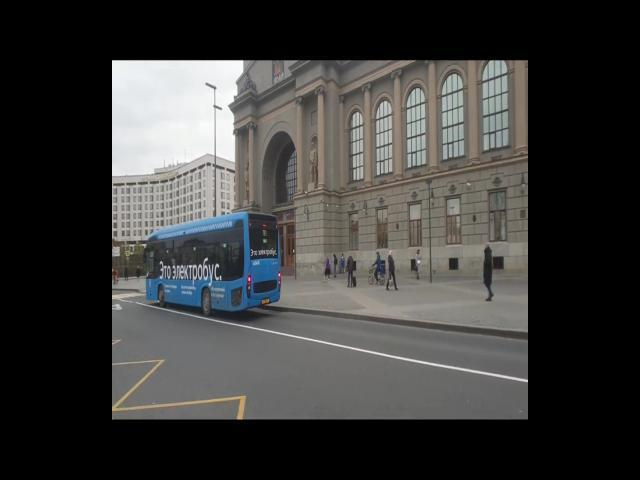bus: (144, 213, 281, 316)
